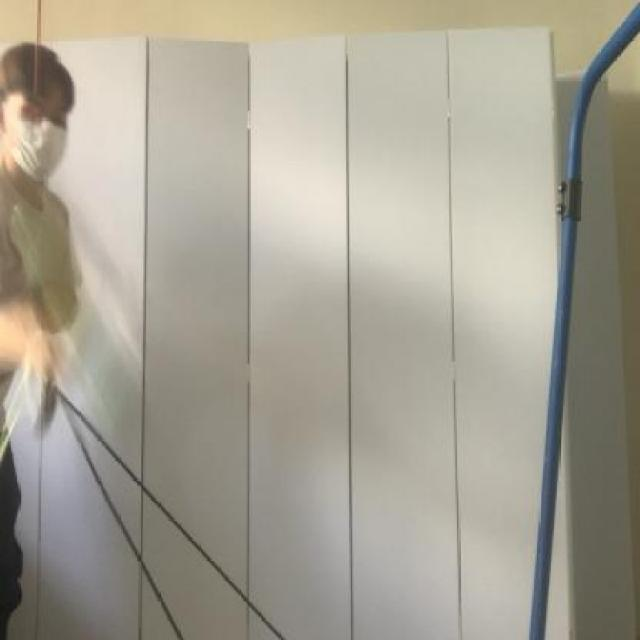baseball: (37, 249, 172, 477)
